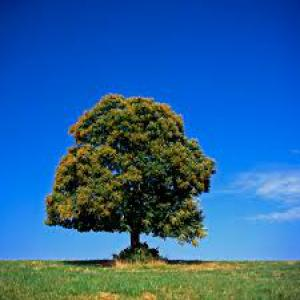Tree: (43, 91, 216, 263)
